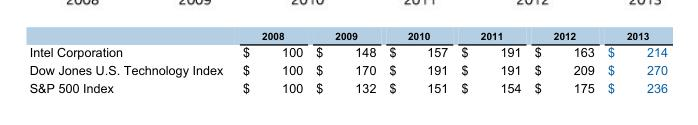table: (28, 29, 667, 94)
table column: (28, 29, 232, 94), (232, 29, 308, 94), (453, 29, 527, 94), (308, 29, 381, 94), (527, 29, 600, 94), (381, 29, 453, 94), (600, 29, 667, 94)
table column header: (28, 29, 667, 42)
table row: (28, 42, 667, 60), (28, 60, 667, 78), (28, 78, 667, 94), (28, 29, 667, 42)
